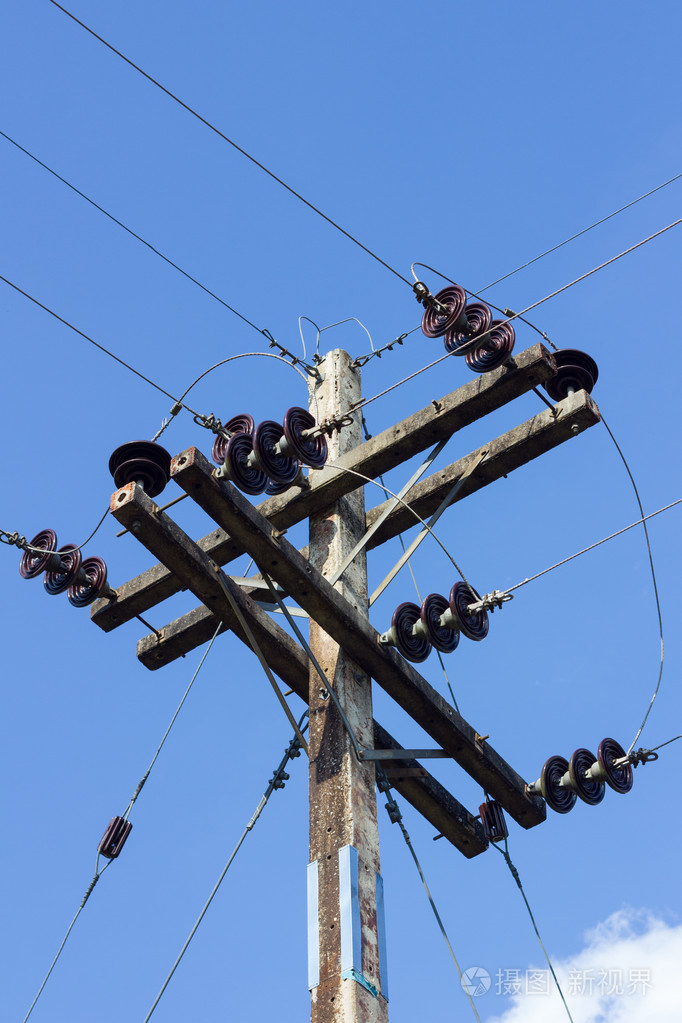insulator: (229, 413, 327, 497), (424, 282, 513, 372), (538, 733, 633, 810), (390, 584, 488, 657), (19, 532, 106, 612), (212, 410, 253, 465)
